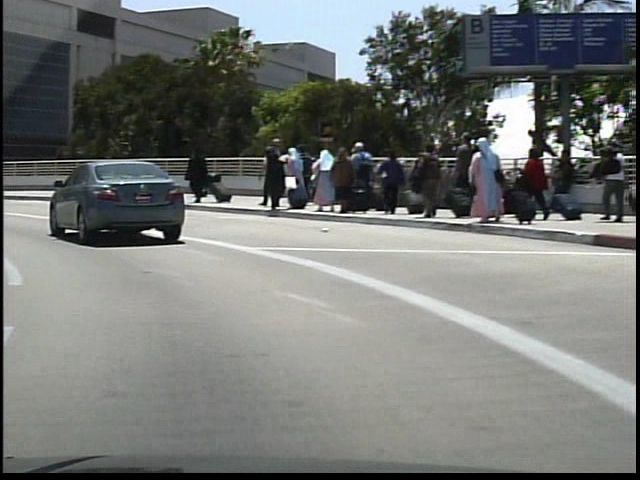person: (587, 137, 622, 224), (257, 136, 284, 212), (253, 144, 278, 211), (182, 146, 206, 205), (193, 153, 212, 198)
